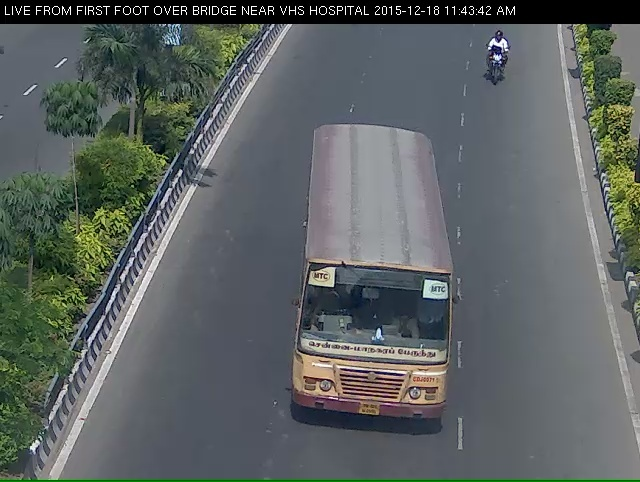Bus: (285, 126, 464, 464)
Person: (480, 38, 521, 102)
